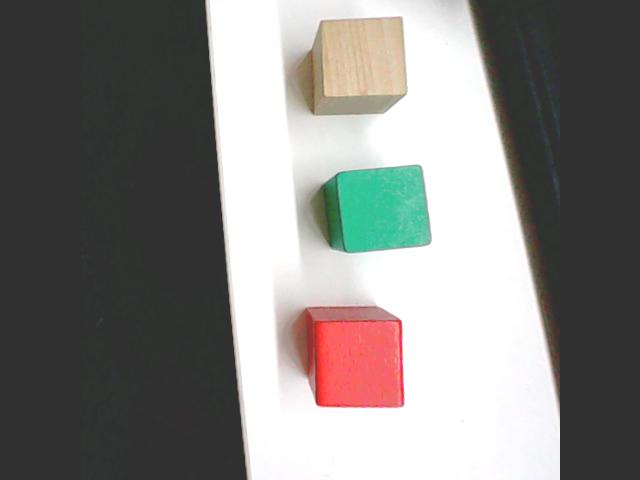green_box: (319, 161, 435, 256)
raw_box: (302, 9, 412, 122)
red_box: (302, 302, 409, 412)
